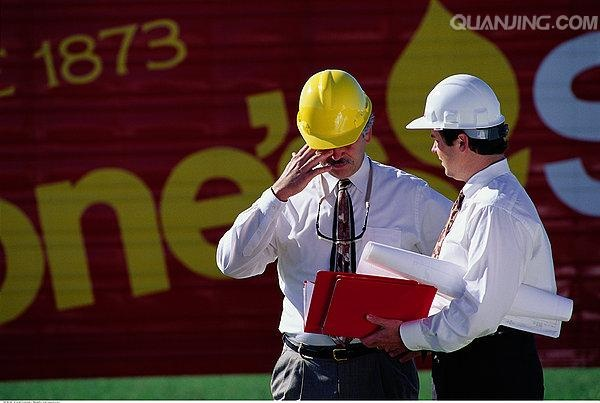white: (408, 72, 511, 186)
yellow: (296, 68, 374, 177)
